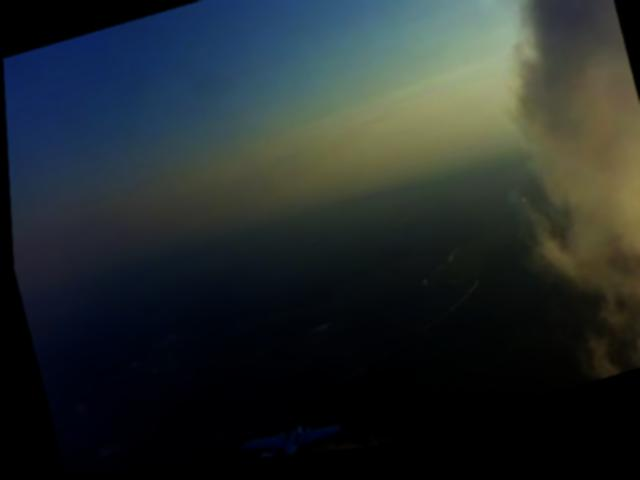uav: (232, 410, 343, 464)
